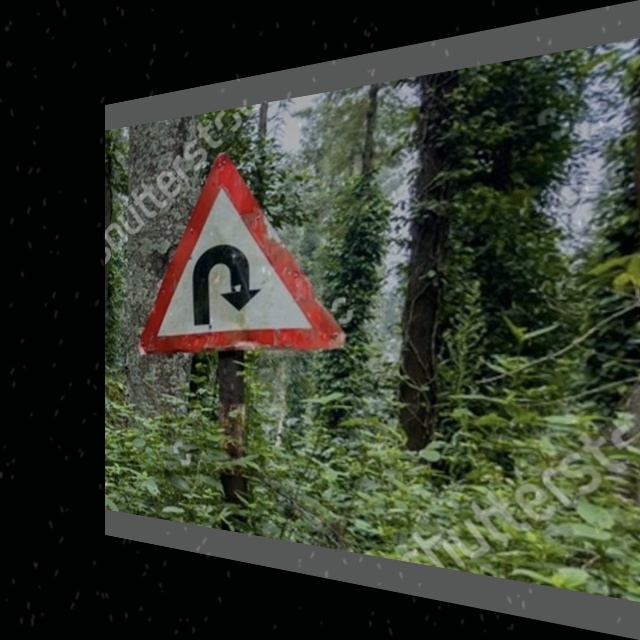Right_Hair_Pin_Bend: (139, 135, 344, 348)
